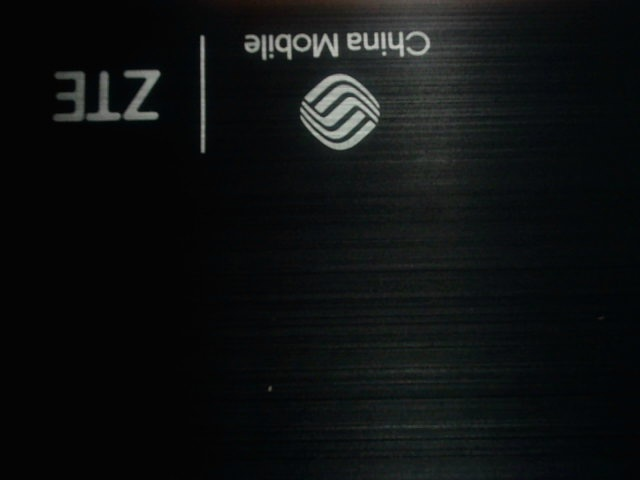AL_ZTEChinaMobile: (28, 15, 440, 159)
